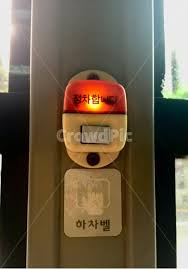bell: (59, 65, 128, 168)
